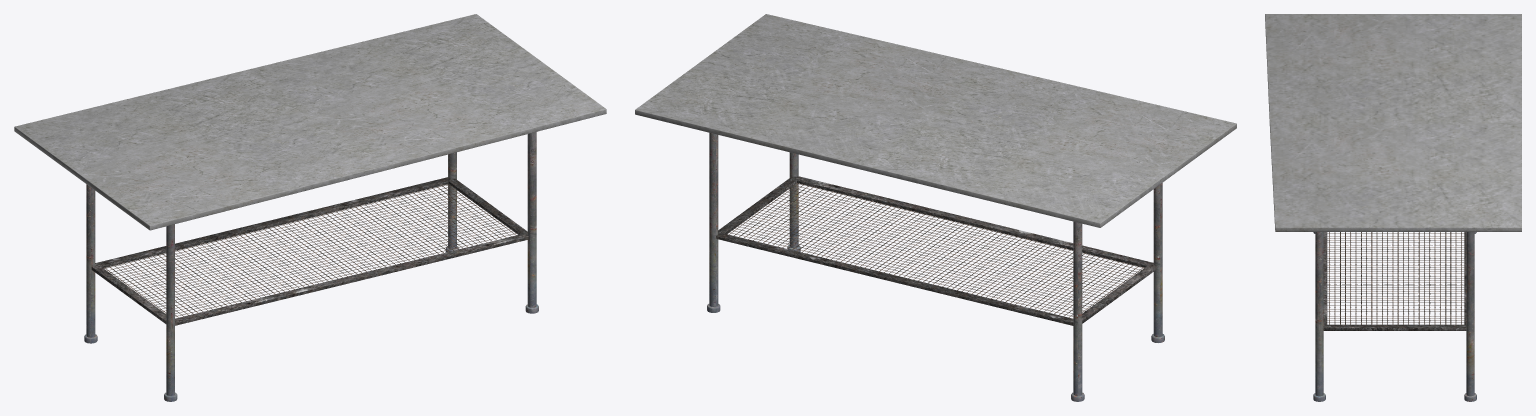
The model's file is MetalTable.FBX.
3 renders of one model, left to right at view 1: azimuth 30°, elevation 25°; view 2: azimuth 150°, elevation 25°; view 3: azimuth 270°, elevation 25°, orthographic. The views are drawn at different scales.
Visible parts, largest first — view 1: MetalTable; view 2: MetalTable; view 3: MetalTable.
Boxes of the visible parts, <box> form: MetalTable: <box>14,14,606,401</box>; MetalTable: <box>635,14,1236,401</box>; MetalTable: <box>1265,14,1521,401</box>.
Size of the model in its own units: 236 by 101 by 120.
